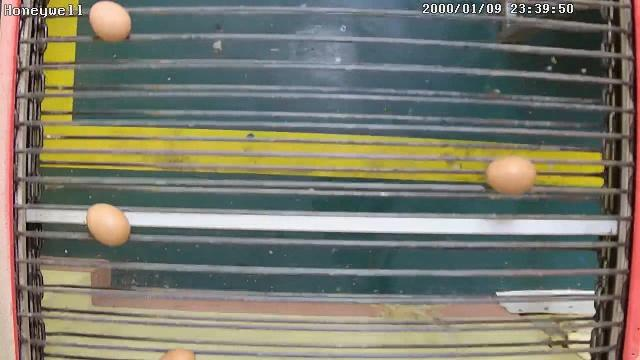egg: (486, 153, 538, 197), (85, 202, 133, 248), (87, 0, 133, 43)
